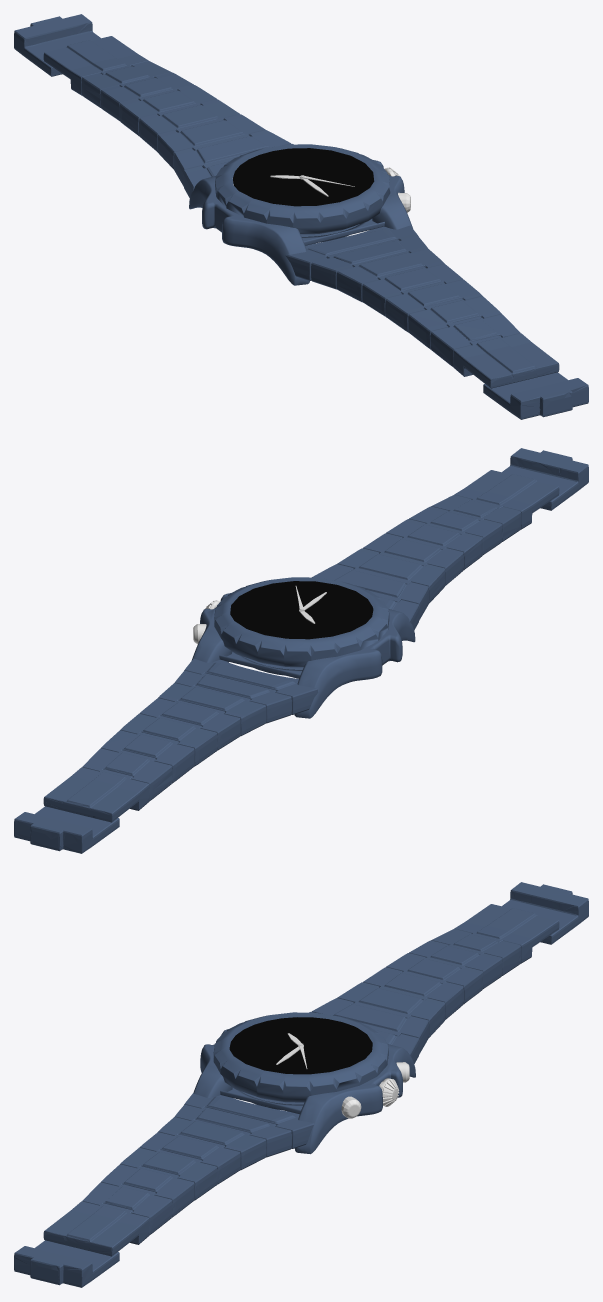
The model's file is rollex1.fbx.
3 renders of one model, top to bottom at view 1: azimuth 30°, elevation 25°; view 2: azimuth 150°, elevation 25°; view 3: azimuth 330°, elevation 25°, orthographic.
Visible parts, largest first — view 1: rollexwatch075, rollexwatch074, rollexwatch061, classic watch002, sport watch002; view 2: rollexwatch074, rollexwatch075, rollexwatch061, classic watch002, sport watch002; view 3: rollexwatch075, rollexwatch074, rollexwatch061, classic watch002, sport watch002.
Boxes of the visible parts, x1=… form: rollexwatch075: x1=285, y1=225, x2=588, y2=419; rollexwatch074: x1=14, y1=14, x2=293, y2=198; rollexwatch061: x1=189, y1=144, x2=412, y2=285; classic watch002: x1=233, y1=148, x2=374, y2=206; sport watch002: x1=300, y1=219, x2=384, y2=245; rollexwatch074: x1=14, y1=658, x2=317, y2=853; rollexwatch075: x1=312, y1=448, x2=588, y2=630; rollexwatch061: x1=191, y1=577, x2=415, y2=718; classic watch002: x1=230, y1=581, x2=373, y2=639; sport watch002: x1=219, y1=652, x2=303, y2=678; rollexwatch075: x1=14, y1=1093, x2=314, y2=1287; rollexwatch074: x1=309, y1=882, x2=588, y2=1063; rollexwatch061: x1=193, y1=1012, x2=415, y2=1154; classic watch002: x1=229, y1=1017, x2=372, y2=1074; sport watch002: x1=220, y1=1088, x2=303, y2=1114.
Bounding box in the file's own units: 160 × 47.35 × 770.
